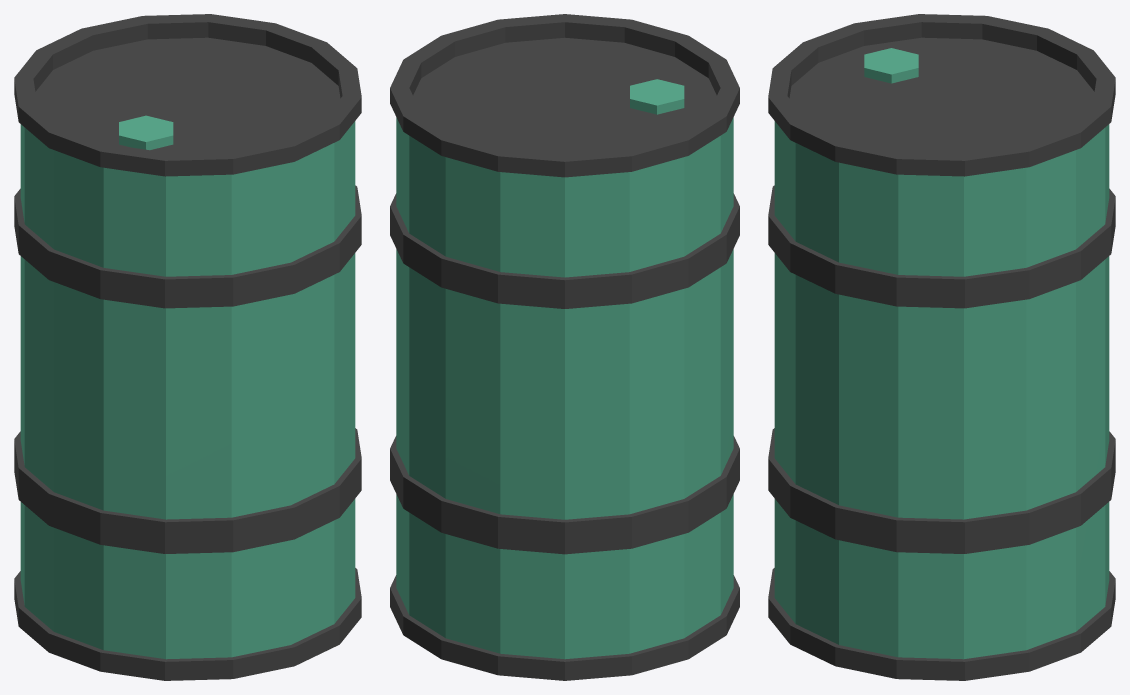
File: barrel_a001.glb
3 views of the same model, side by side, from view 1: azimuth 30°, elevation 25°; view 2: azimuth 150°, elevation 25°; view 3: azimuth 270°, elevation 25° (orthographic).
Parts seen in each view (by area): view 1: barrel_a001; view 2: barrel_a001; view 3: barrel_a001.
Part boxes in pixels (x1,y1,x2,y2): barrel_a001: (14, 14, 361, 680); barrel_a001: (390, 14, 739, 680); barrel_a001: (768, 14, 1115, 680).
Bounding box in the file's own units: 0.5559 × 0.9177 × 0.5559.
Materials: 1 (1 with a texture image).
